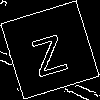Z: (25, 24, 70, 78)
